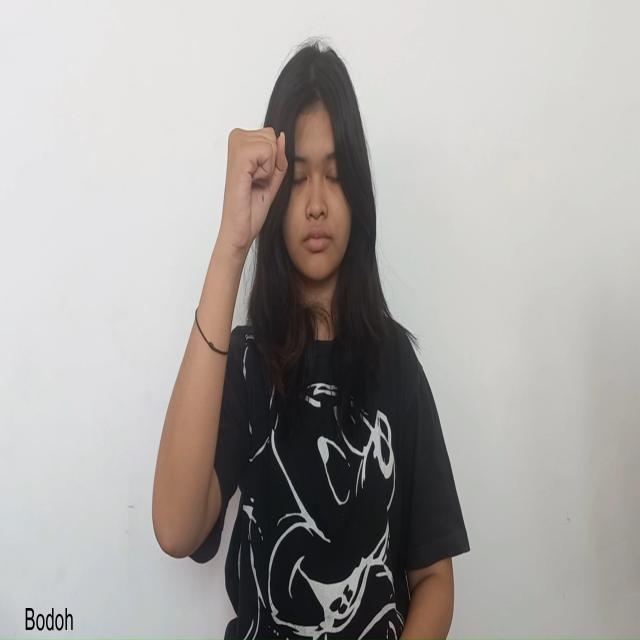Bodoh -BISINDO-: (219, 126, 290, 256)
